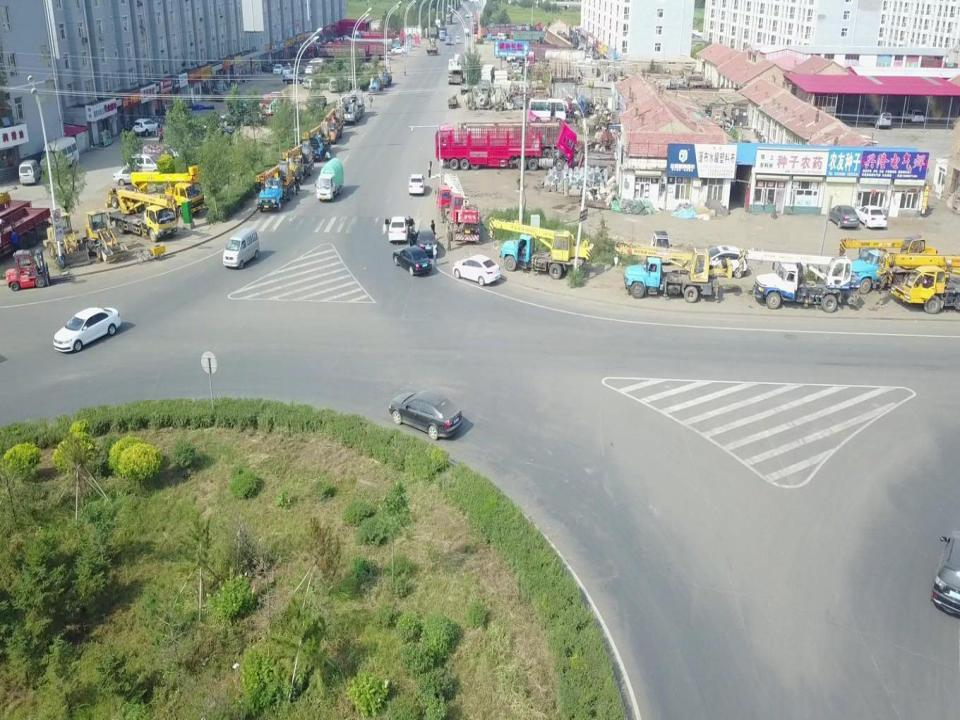bus: (528, 97, 569, 123)
car: (388, 388, 463, 439), (53, 306, 121, 353), (687, 244, 749, 278), (453, 254, 501, 286), (392, 246, 432, 276), (381, 216, 415, 243), (827, 204, 860, 229), (853, 205, 887, 229), (408, 230, 437, 258), (113, 166, 153, 185), (652, 230, 672, 260), (133, 118, 161, 137), (406, 173, 426, 195), (901, 109, 925, 124), (282, 72, 302, 84), (301, 78, 317, 90), (306, 57, 325, 65), (390, 46, 406, 54), (282, 65, 294, 75), (272, 64, 282, 75), (304, 65, 316, 73), (464, 13, 468, 18)
truck: (434, 120, 577, 172), (437, 124, 564, 168), (253, 162, 294, 212), (280, 140, 315, 184), (332, 37, 384, 61), (306, 42, 368, 62), (315, 158, 343, 202), (302, 120, 331, 162), (429, 25, 439, 40), (470, 20, 479, 34), (439, 26, 447, 40), (486, 33, 499, 41), (446, 12, 452, 24), (445, 35, 451, 45)
van: (40, 136, 80, 176), (223, 227, 260, 269), (126, 154, 162, 175), (142, 144, 174, 165), (18, 159, 42, 186), (867, 109, 892, 128), (327, 78, 339, 92), (497, 32, 507, 40), (456, 35, 461, 43)
